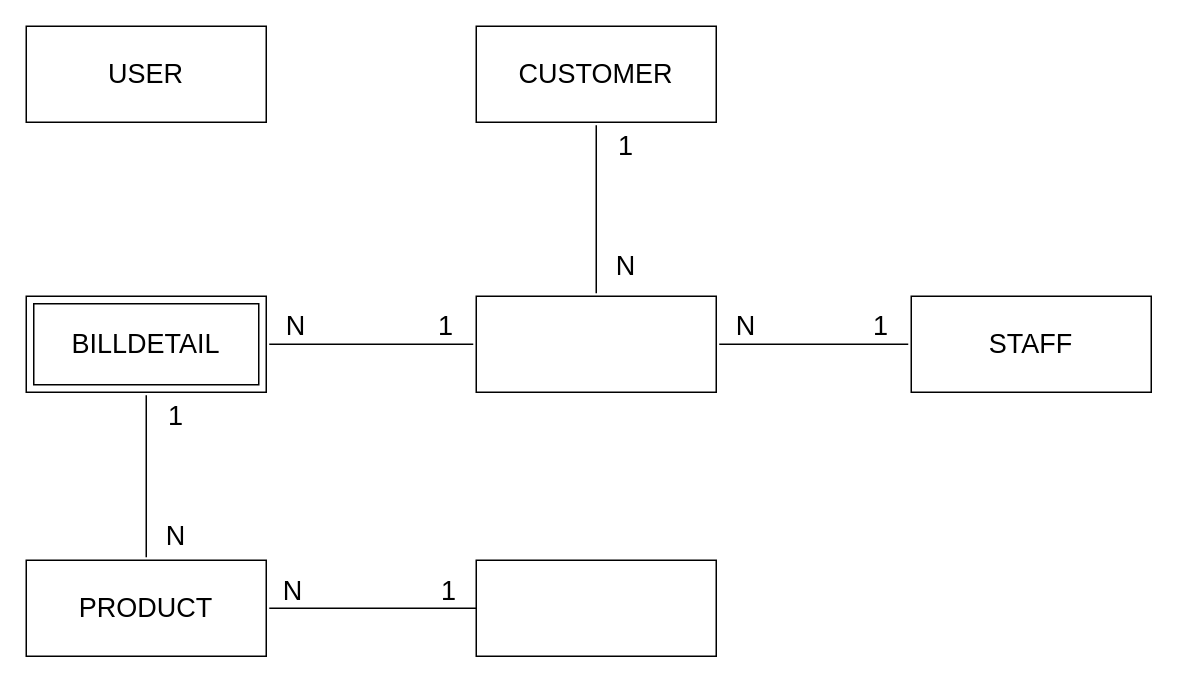
This 1178x683 diagram has some shape labels left out. Each missing label, with the centre of its shape:
BILL: the point at 595,343
CATEGORY: the point at 595,607
